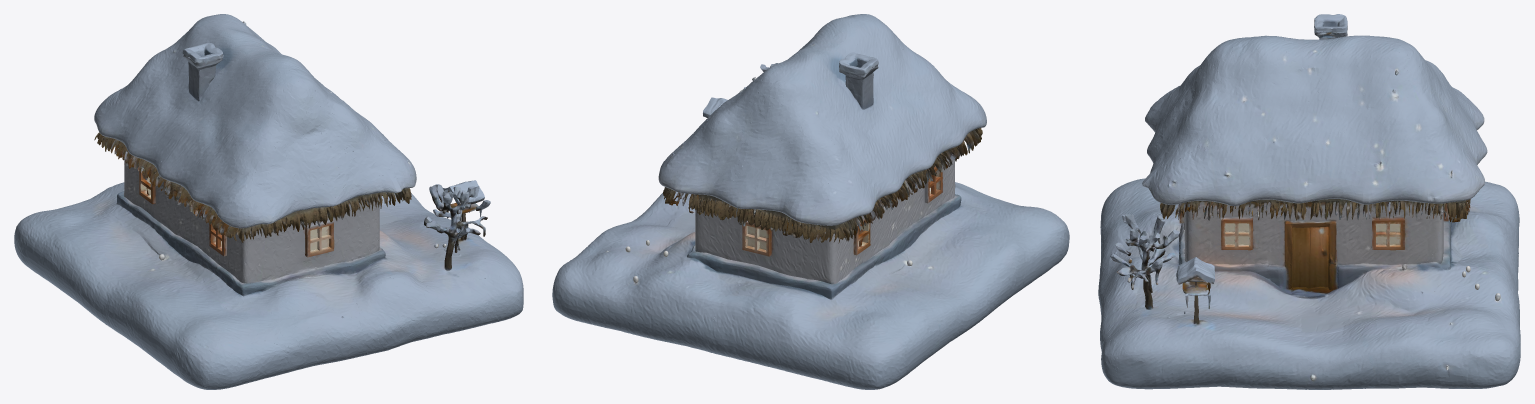
The model's file is chalupka-transformed.glb.
The picture shows the model from 3 angles, left to right: view 1: azimuth 30°, elevation 25°; view 2: azimuth 150°, elevation 25°; view 3: azimuth 270°, elevation 25°; orthographic projection. The views are drawn at different scales.
Parts seen in each view (by area): view 1: tripo_node_c3f2fe8f-73aa-4e71-9035-5c5198143da1; view 2: tripo_node_c3f2fe8f-73aa-4e71-9035-5c5198143da1; view 3: tripo_node_c3f2fe8f-73aa-4e71-9035-5c5198143da1.
Boxes of the visible parts, bbox=[...] form: tripo_node_c3f2fe8f-73aa-4e71-9035-5c5198143da1: bbox=[14, 14, 523, 389]; tripo_node_c3f2fe8f-73aa-4e71-9035-5c5198143da1: bbox=[552, 14, 1069, 389]; tripo_node_c3f2fe8f-73aa-4e71-9035-5c5198143da1: bbox=[1098, 14, 1520, 389].
Bounding box in the file's own units: 0.9904 × 0.6894 × 1.
